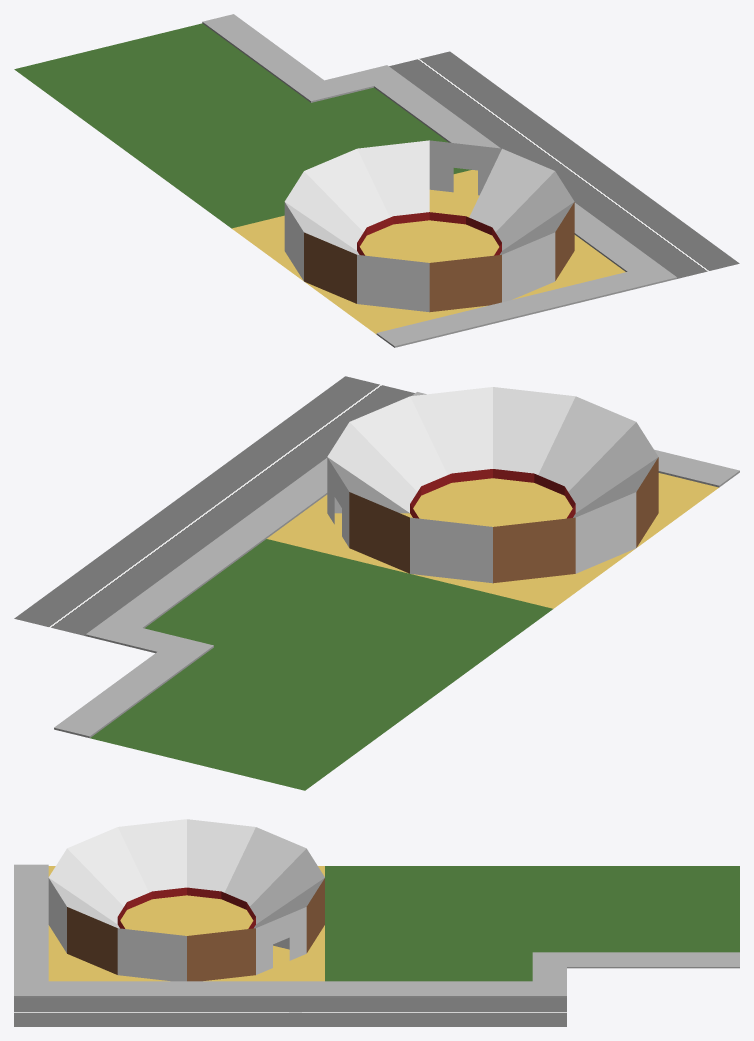
Rendered from arena.glb.
3 views of the same model, one above another, from view 1: azimuth 30°, elevation 25°; view 2: azimuth 150°, elevation 25°; view 3: azimuth 270°, elevation 25° (orthographic). The views are drawn at different scales.
Parts seen in each view (by area): view 1: Circle, Road, Sand; view 2: Circle, Road, Sand; view 3: Circle, Road, Sand.
Boxes of the visible parts, x1=… form: Circle: x1=14, y1=14, x2=677, y2=347; Road: x1=389, y1=51, x2=739, y2=278; Sand: x1=232, y1=170, x2=625, y2=334; Circle: x1=54, y1=387, x2=739, y2=790; Road: x1=14, y1=376, x2=414, y2=635; Sand: x1=267, y1=473, x2=718, y2=608; Circle: x1=14, y1=819, x2=739, y2=997; Road: x1=14, y1=997, x2=566, y2=1026; Sand: x1=48, y1=866, x2=324, y2=981.
Size of what is drawn, in the model's own units: 44 by 6 by 84.
8 materials, 1 textured.
